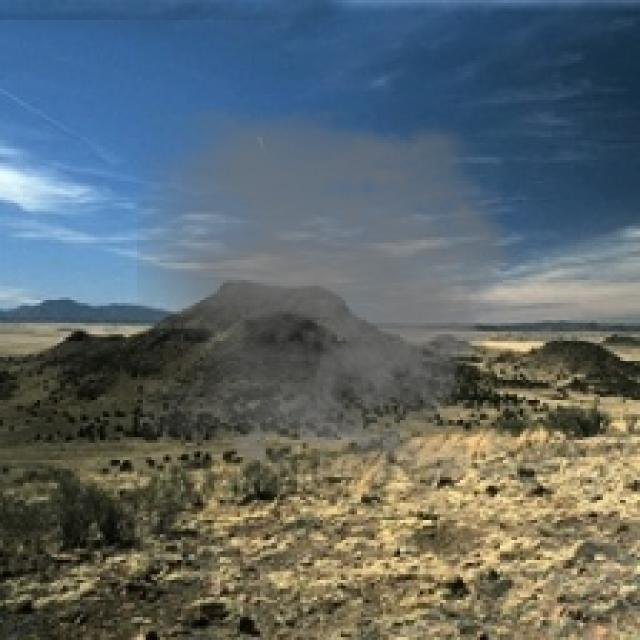smoke: (137, 106, 534, 477)
